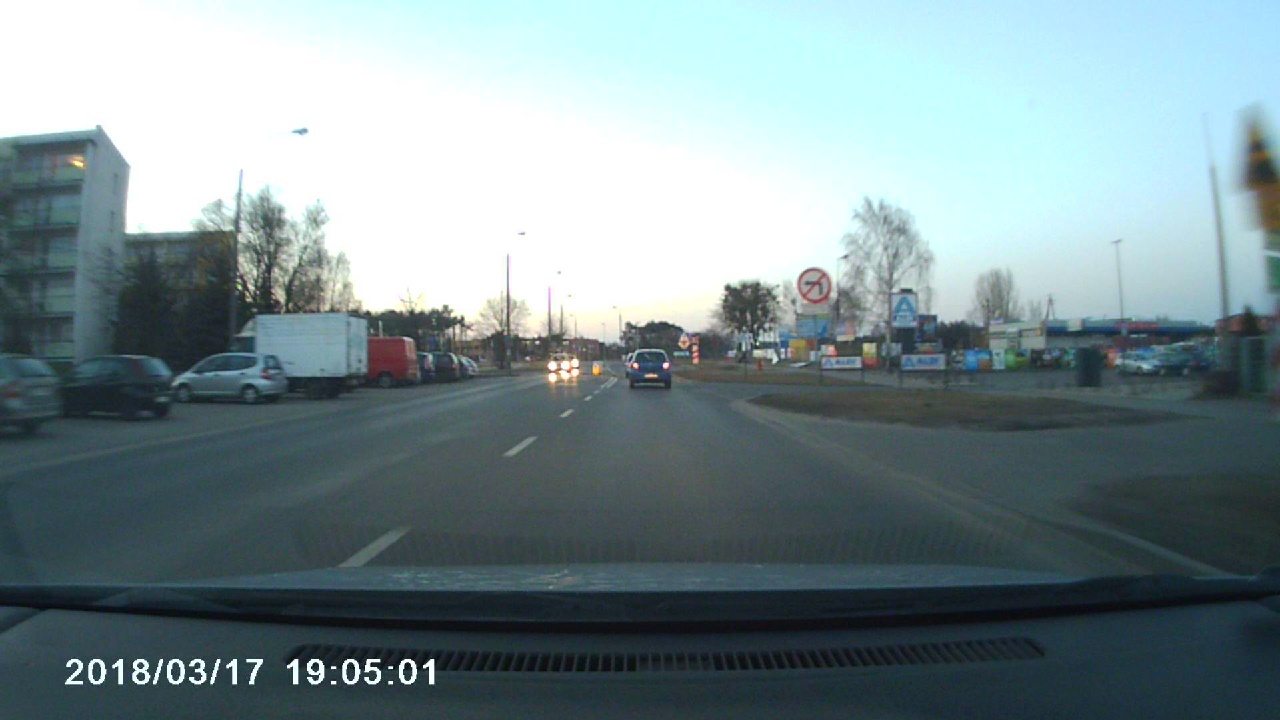B21: (797, 267, 833, 304)
